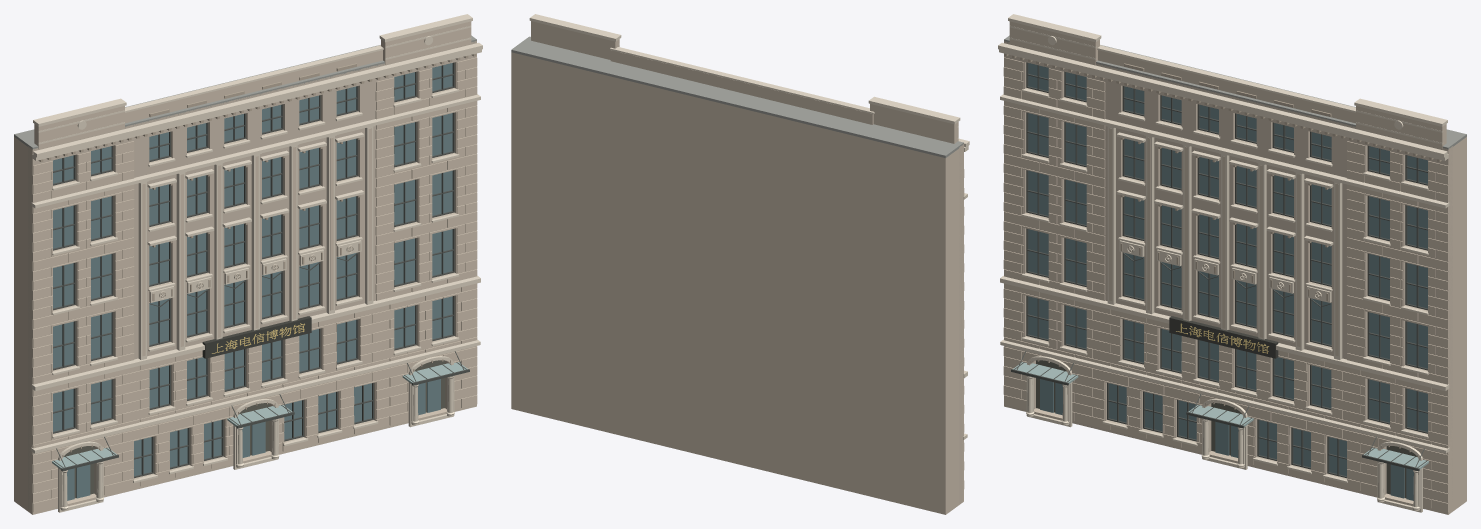
File: huangpu-yanan-road-telegraph-exchange-raw.glb
3 views of the same model, side by side, from view 1: azimuth 30°, elevation 25°; view 2: azimuth 150°, elevation 25°; view 3: azimuth 330°, elevation 25° (orthographic). The views are drawn at different scales.
Visible parts, largest first — view 1: 大北大楼电报局延安东路正立面; view 2: 大北大楼电报局延安东路正立面; view 3: 大北大楼电报局延安东路正立面.
Part boxes in pixels (box(x1,y1,x2,y2)): 大北大楼电报局延安东路正立面: box(14, 14, 482, 514); 大北大楼电报局延安东路正立面: box(511, 14, 969, 514); 大北大楼电报局延安东路正立面: box(998, 14, 1466, 514).
Size of the model in its own units: 29.74 by 25.05 by 3.44.
